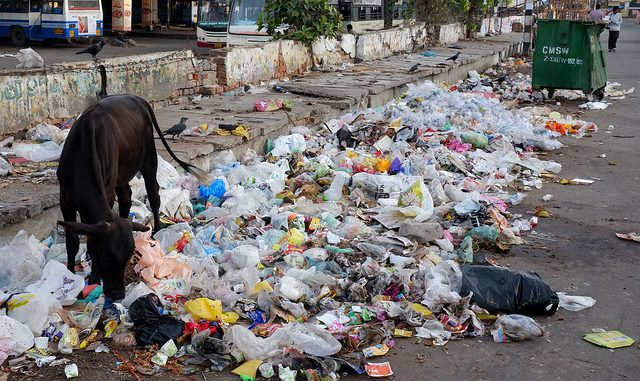garbage: (267, 142, 524, 331), (161, 181, 389, 381), (296, 130, 512, 311), (137, 249, 549, 342), (344, 114, 517, 331), (404, 86, 540, 245), (1, 237, 67, 378), (467, 73, 531, 149)
